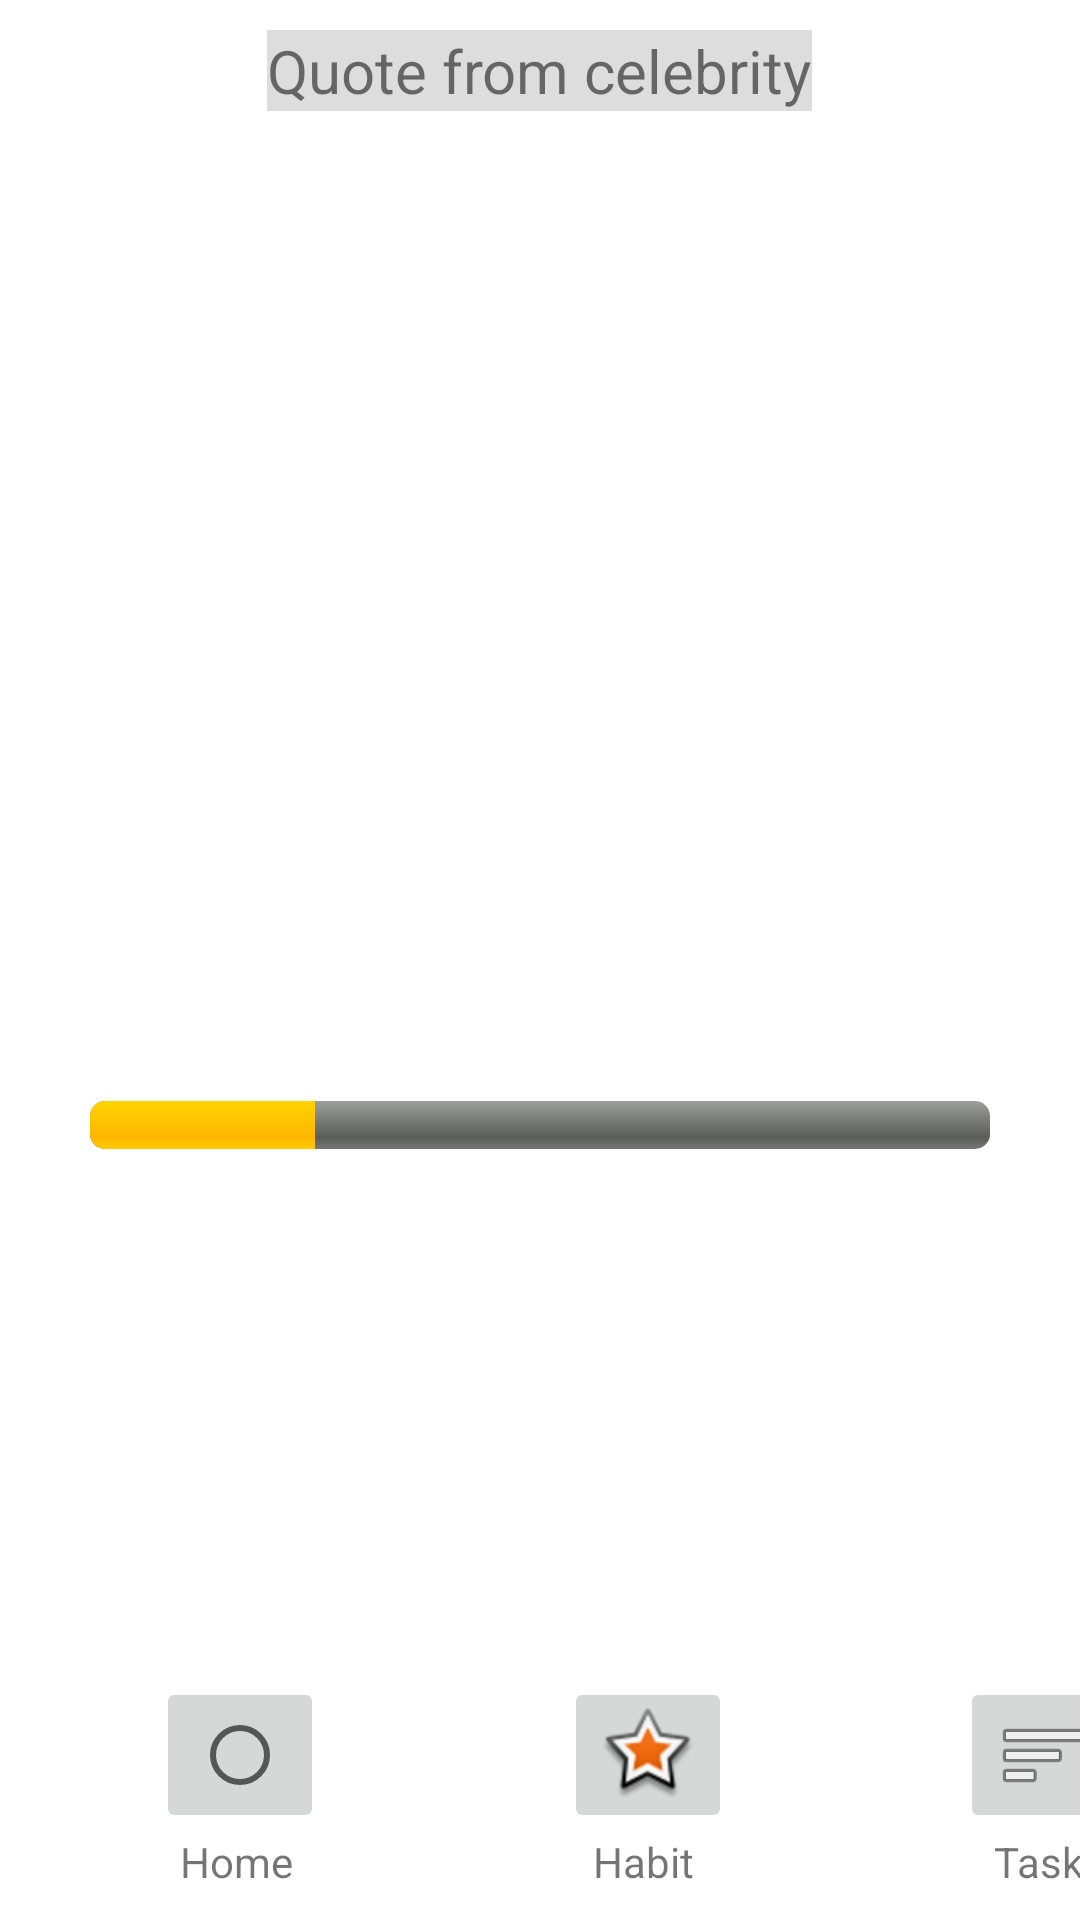

Named icons in this screenshot (1080 × 1920) and their centers, (x,y):
star on: (648,1755)
